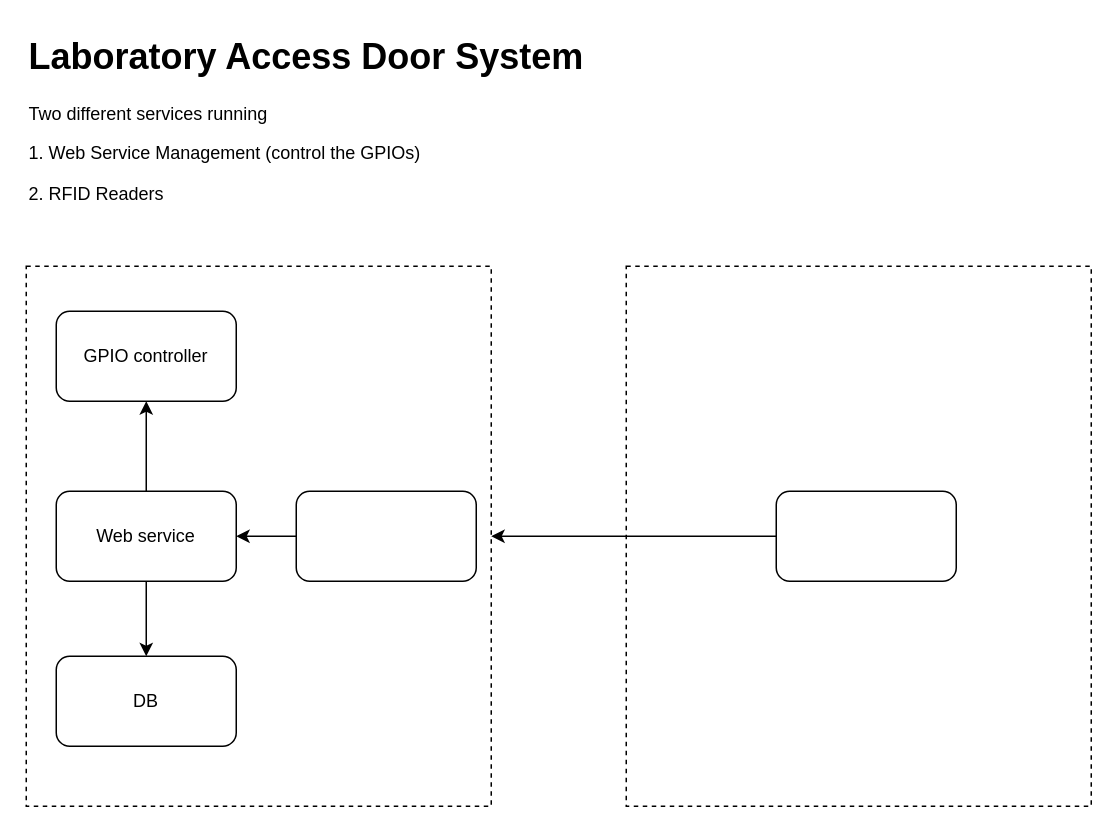
The diagram is 1118 pixels wide and 833 high, and some of its shapes have lost their labels. The shapes that lost their labels are listed below. From the top down, each one's box as (x1, y1, x2, y2) in pixels, then its label:
(295, 490, 476, 581): NGX
(775, 490, 956, 581): RDIF Reader Service
